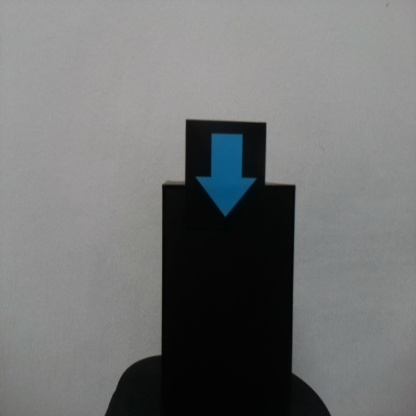id_2: (185, 121, 267, 240)
